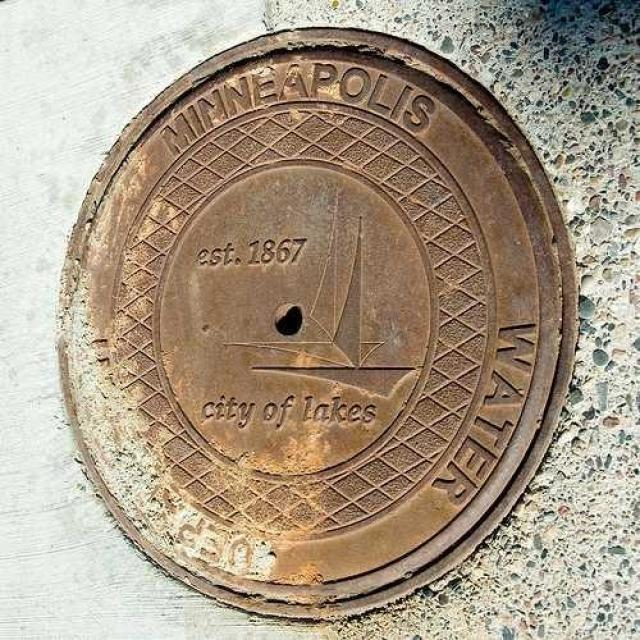manhole: (61, 27, 578, 618)
